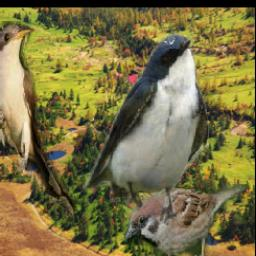Cuckoo: (0, 21, 77, 218)
Sparrow: (125, 184, 248, 256)
Swallow: (84, 34, 210, 225)
